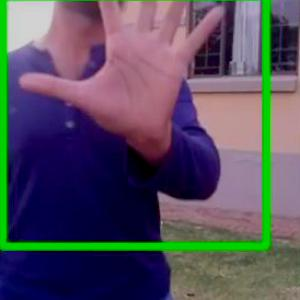follow_hand: (11, 0, 229, 155)
